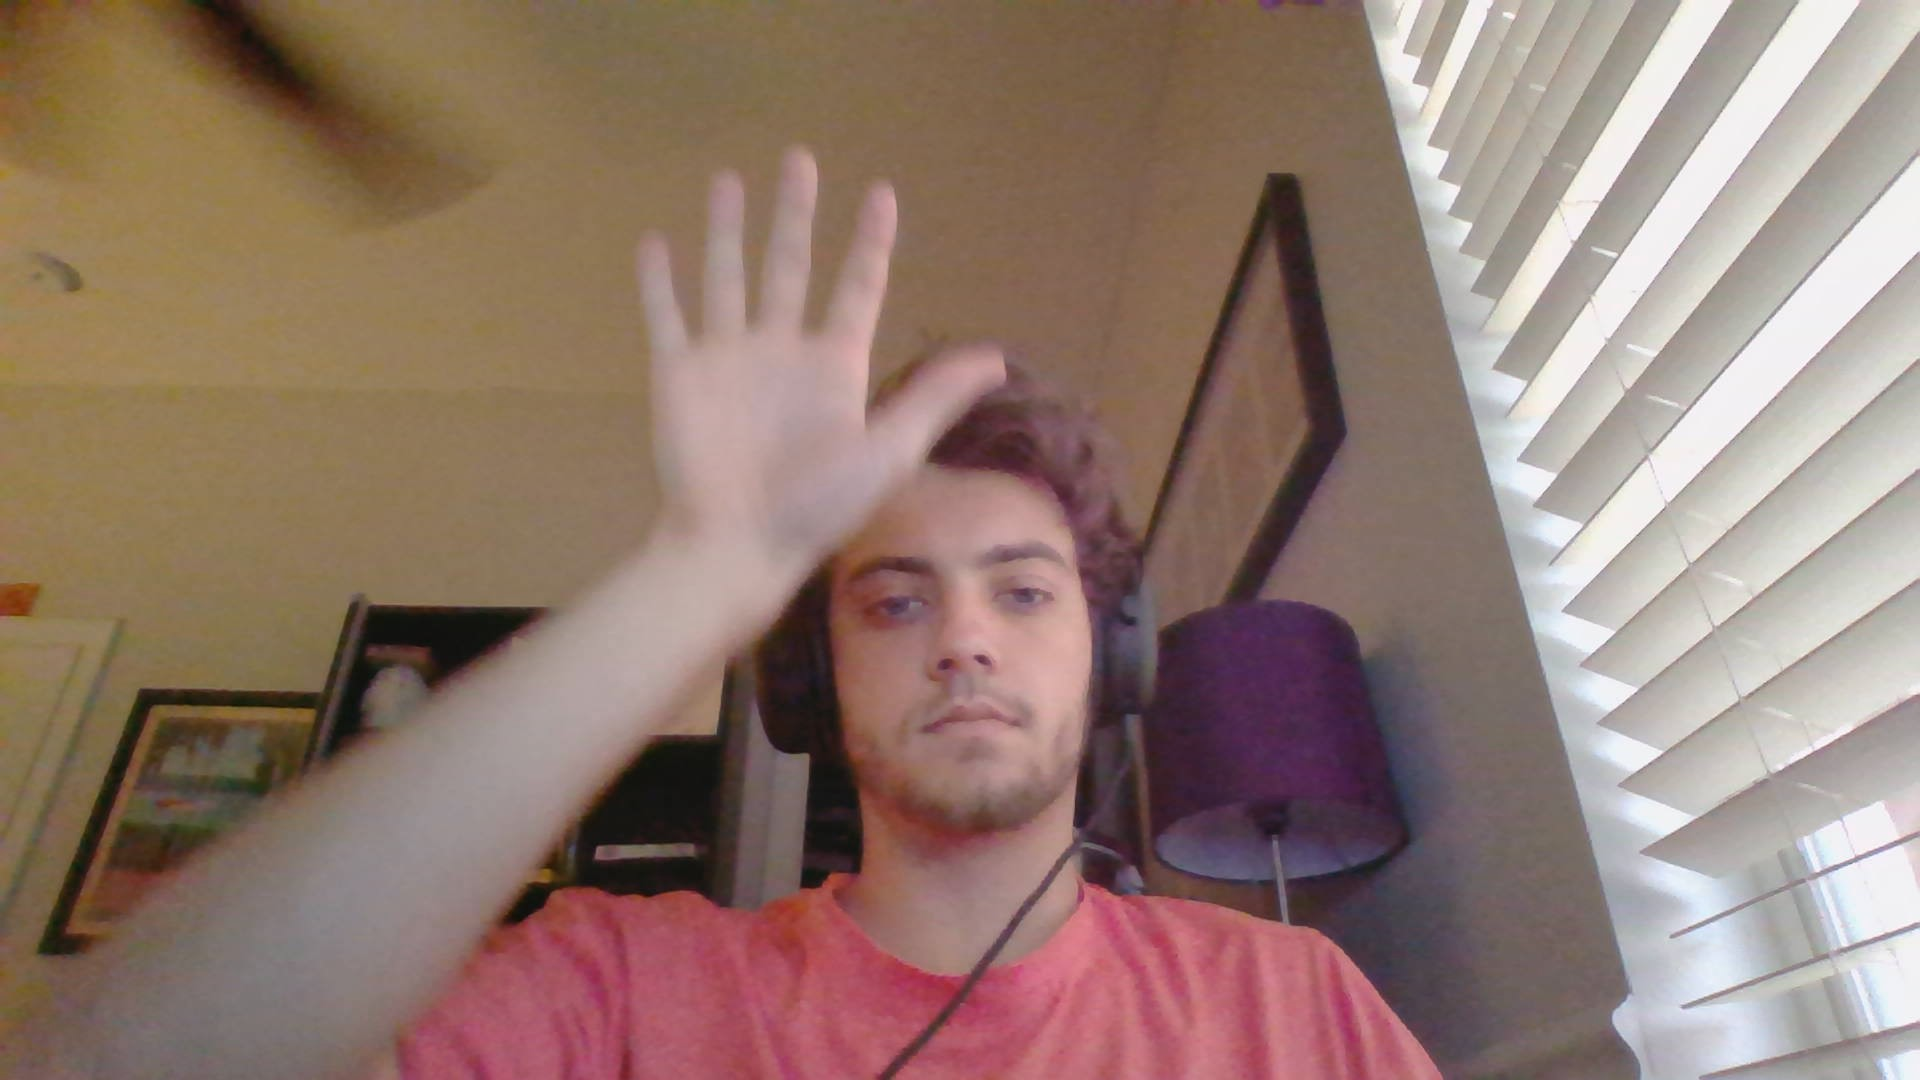Right Palm Up: (611, 142, 1011, 585)
